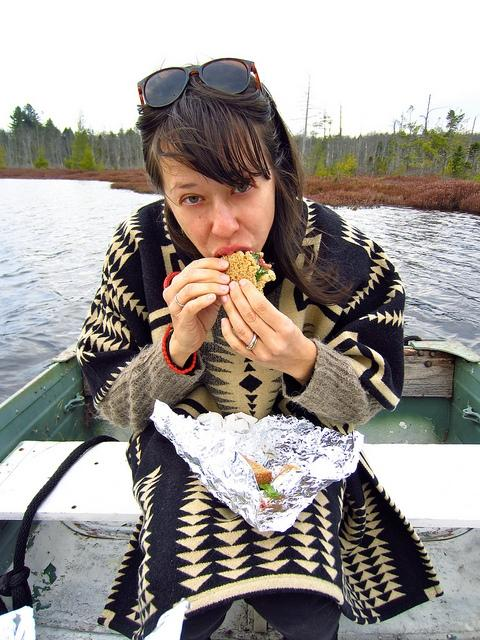lettuce: (258, 482, 282, 497), (255, 266, 268, 282), (251, 253, 260, 265)
